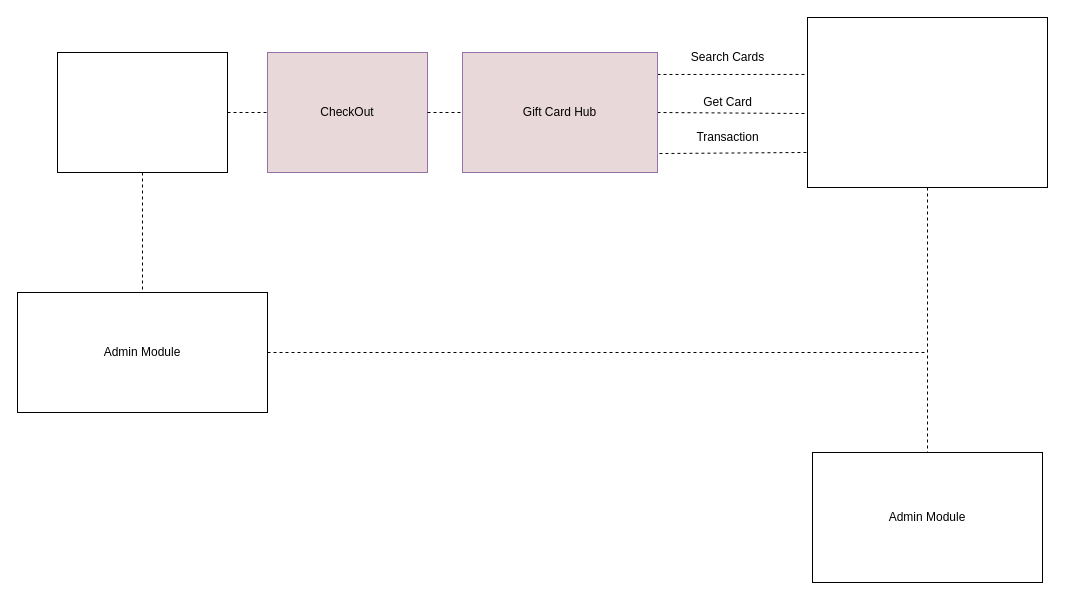
This 1065x600 diagram has some shape labels left out. The shapes that lost their labels are listed below. From the top down, each one's centre as x and y in pixels, then its label:
the point at 142,112: Awesome Store
the point at 927,102: Super Awesome Loyalty Program
